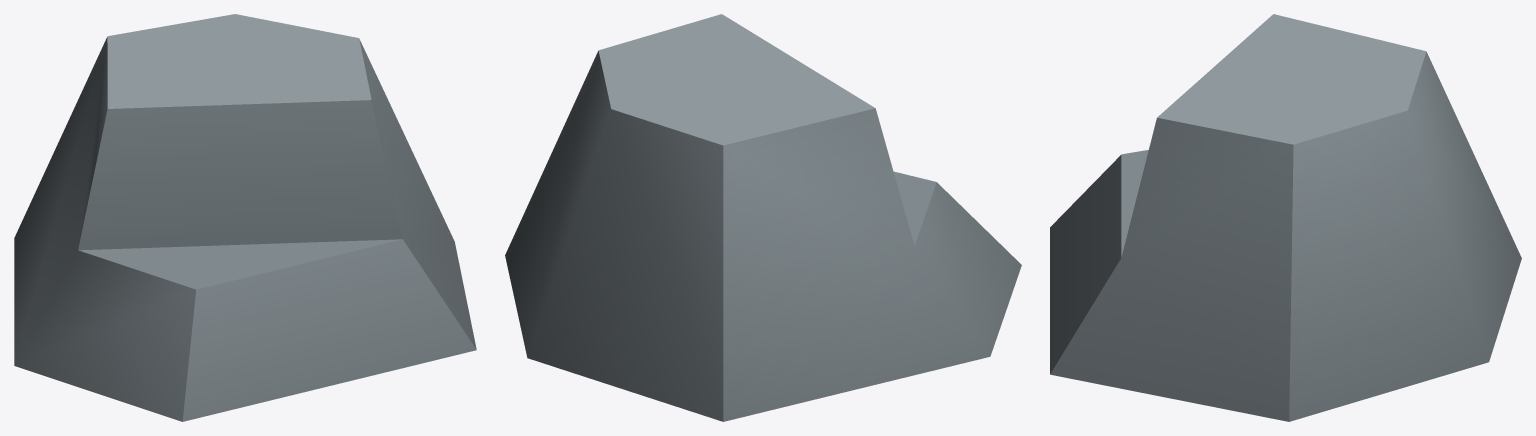
The model's file is rock_single_B.glb.
The picture shows the model from 3 angles, left to right: view 1: azimuth 30°, elevation 25°; view 2: azimuth 150°, elevation 25°; view 3: azimuth 270°, elevation 25°; orthographic projection. The views are drawn at different scales.
Visible parts, largest first — view 1: rock_single_B; view 2: rock_single_B; view 3: rock_single_B.
Part boxes in pixels (x1,y1,x2,y2): rock_single_B: (14, 14, 476, 421); rock_single_B: (505, 14, 1021, 421); rock_single_B: (1050, 14, 1521, 421).
Bounding box in the file's own units: 0.2866 × 0.1346 × 0.2497.
Materials: 1 (1 with a texture image).
